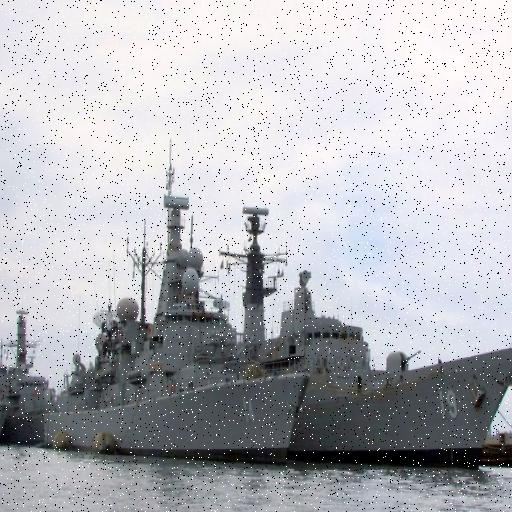Fragata: (17, 131, 312, 468), (224, 191, 512, 472)
